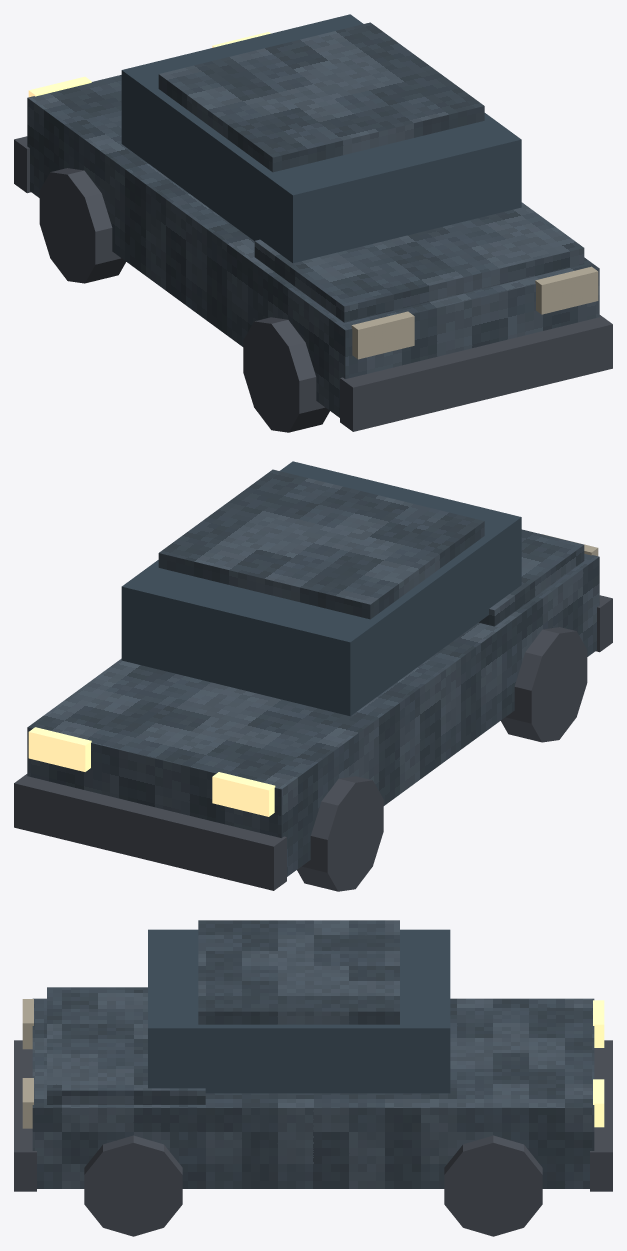
The model's file is ENV_C_CompactCar.fbx.
3 views of the same model, one above another, from view 1: azimuth 30°, elevation 25°; view 2: azimuth 150°, elevation 25°; view 3: azimuth 270°, elevation 25° (orthographic). The views are drawn at different scales.
Visible parts, largest first — view 1: ENV_C_CompactCar; view 2: ENV_C_CompactCar; view 3: ENV_C_CompactCar.
Part boxes in pixels (x1,y1,x2,y2): ENV_C_CompactCar: [14, 14, 612, 432]; ENV_C_CompactCar: [14, 461, 612, 891]; ENV_C_CompactCar: [14, 920, 612, 1236].
Size of the model in its own units: 204 by 160 by 416.
5 materials, 1 textured.
